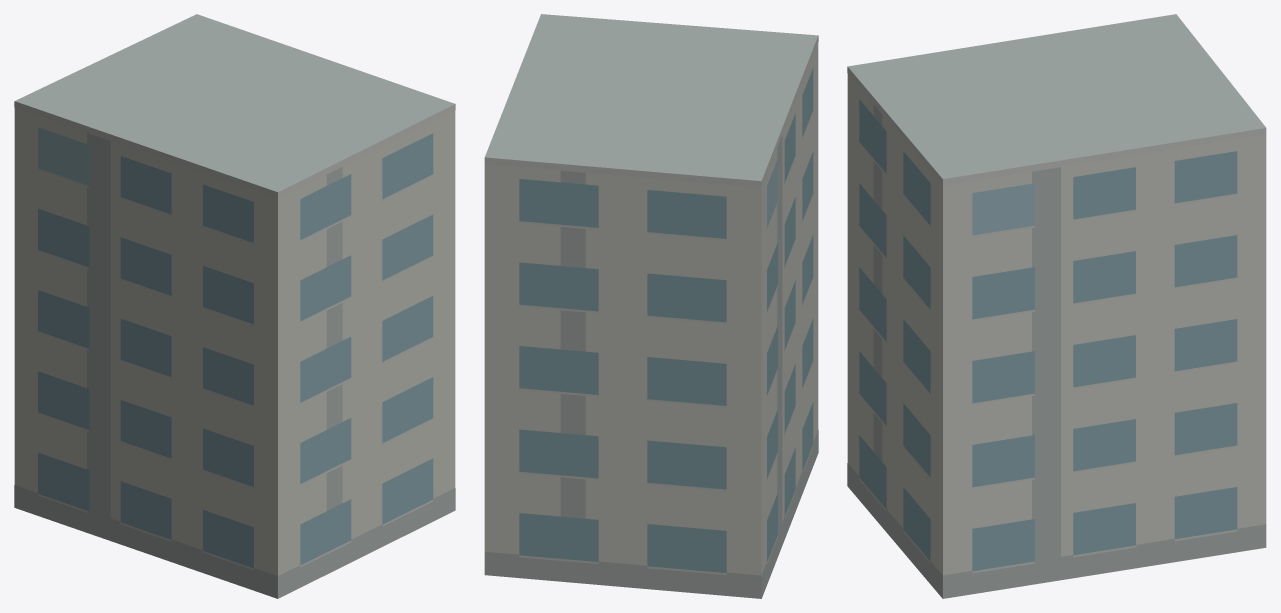
The model's file is survey-upis-32941846.glb.
3 renders of one model, left to right at view 1: azimuth 30°, elevation 25°; view 2: azimuth 150°, elevation 25°; view 3: azimuth 270°, elevation 25°, orthographic. The views are drawn at different scales.
Parts seen in each view (by area): view 1: survey-upis-32941846.tmp; view 2: survey-upis-32941846.tmp; view 3: survey-upis-32941846.tmp.
Boxes of the visible parts, box(x1,y1,x2,y2) form: survey-upis-32941846.tmp: box(14, 14, 455, 598); survey-upis-32941846.tmp: box(484, 14, 818, 598); survey-upis-32941846.tmp: box(847, 14, 1266, 598).
Bounding box in the file's own units: 12.75 × 15.1 × 13.67.
